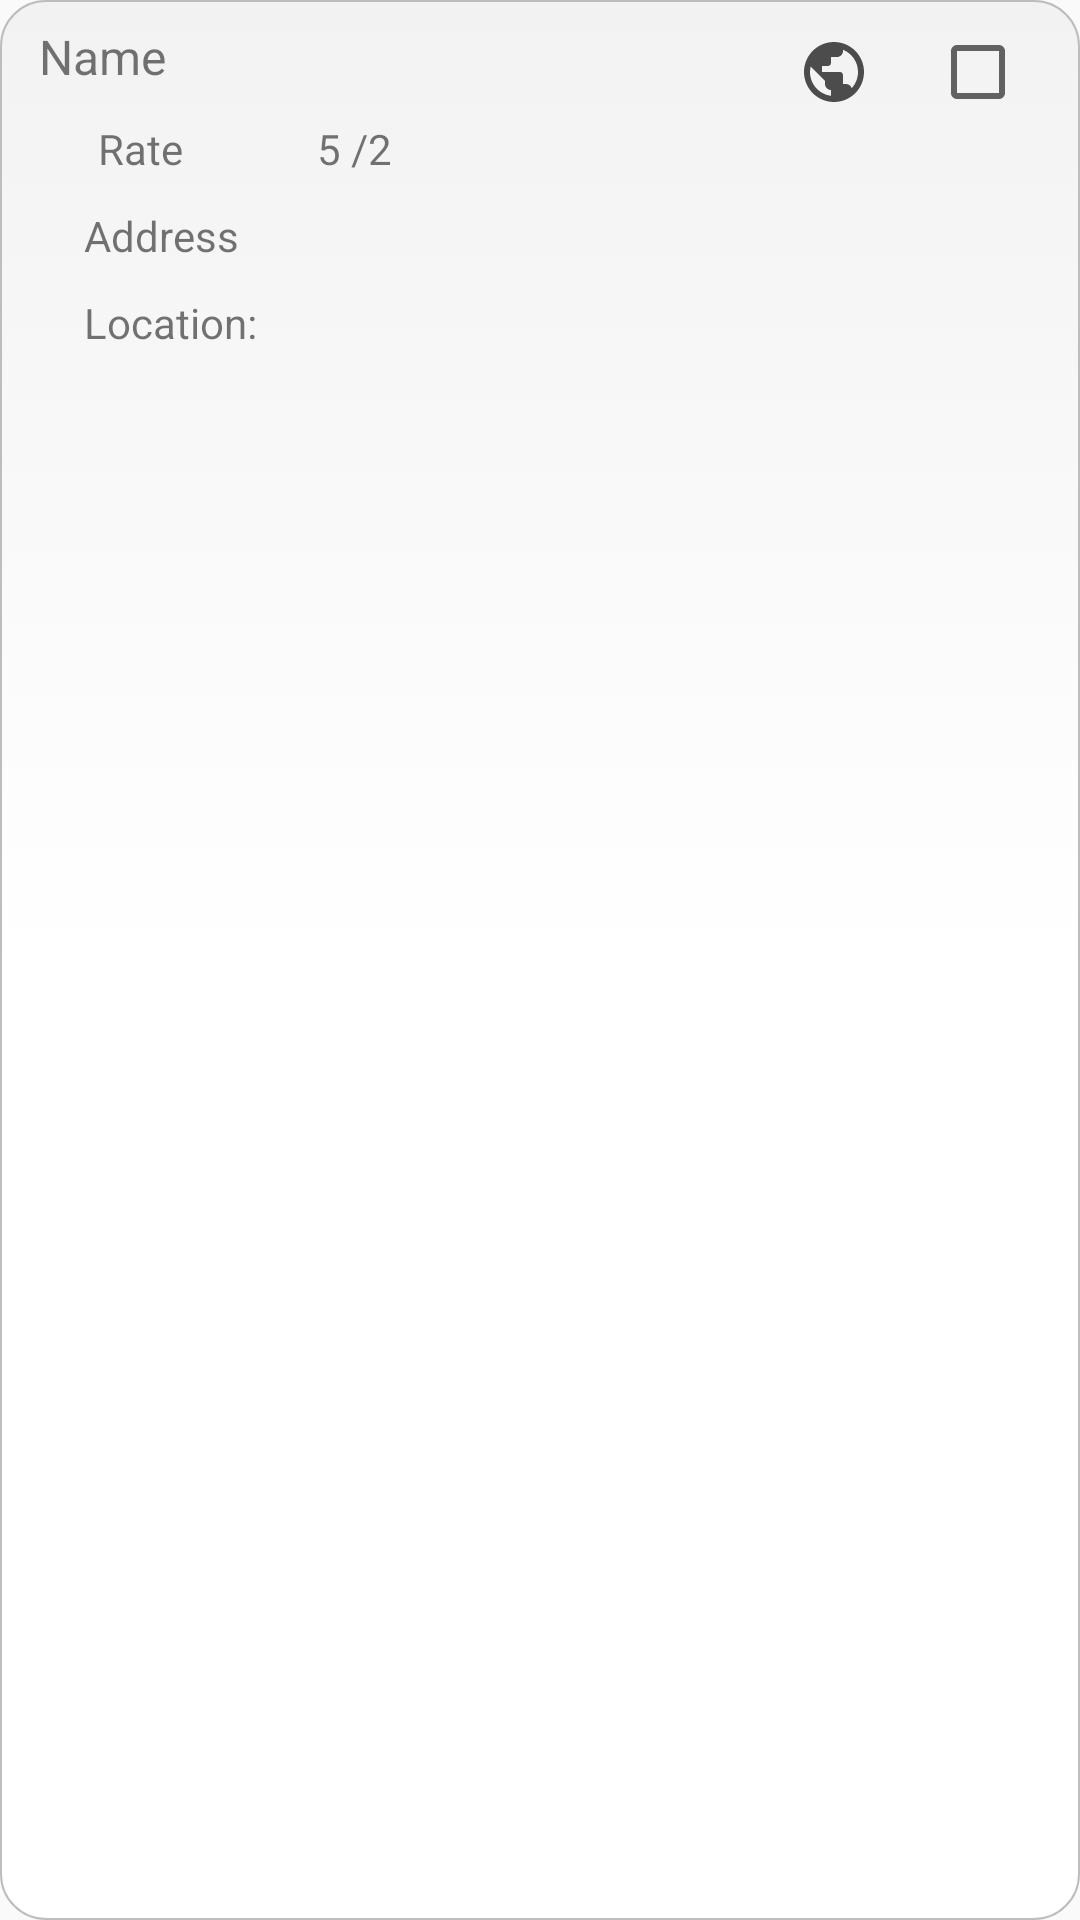

Where icons sit on this 1080*1920 app screen, as (x1, y1, x2, y2):
internet search: (804, 42, 864, 102)
